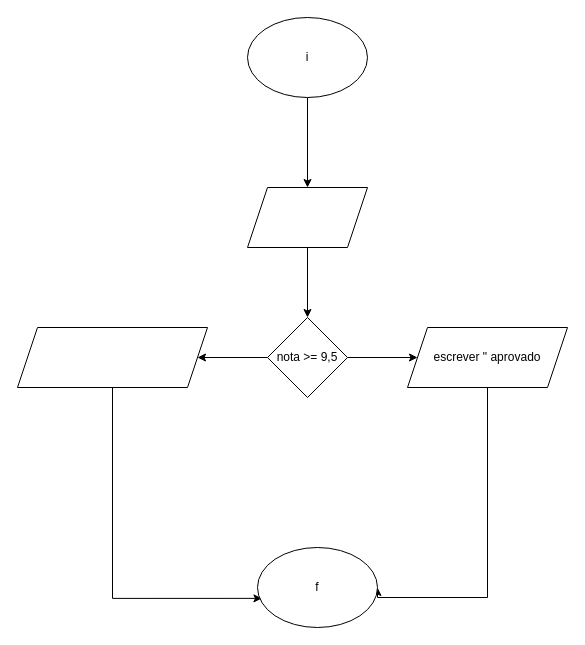
The diagram is 585 pixels wide and 645 high, and some of its shapes have lost their labels. The centre of each missing label's shape, as x and y in pixels:
escrever " reprovado": point (112, 357)
ler nota: point (307, 217)
